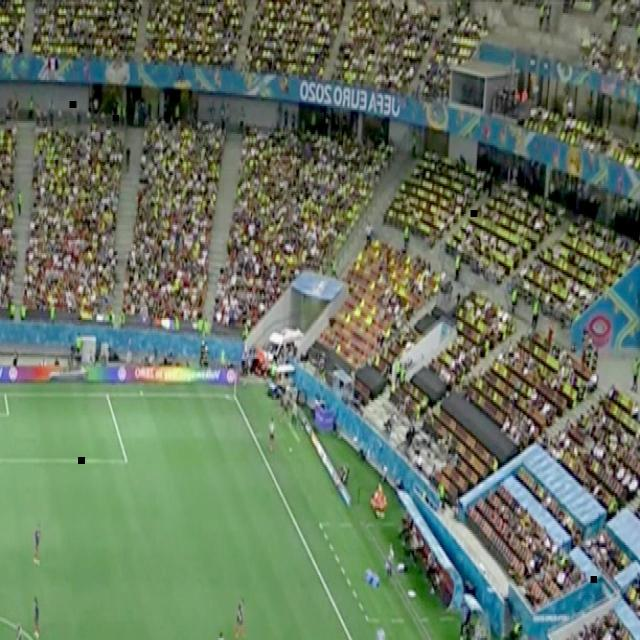ball: (289, 445, 293, 453)
player-white: (235, 595, 249, 640), (32, 522, 44, 566), (32, 593, 41, 640), (13, 619, 26, 640), (374, 621, 387, 640), (215, 628, 229, 640)
